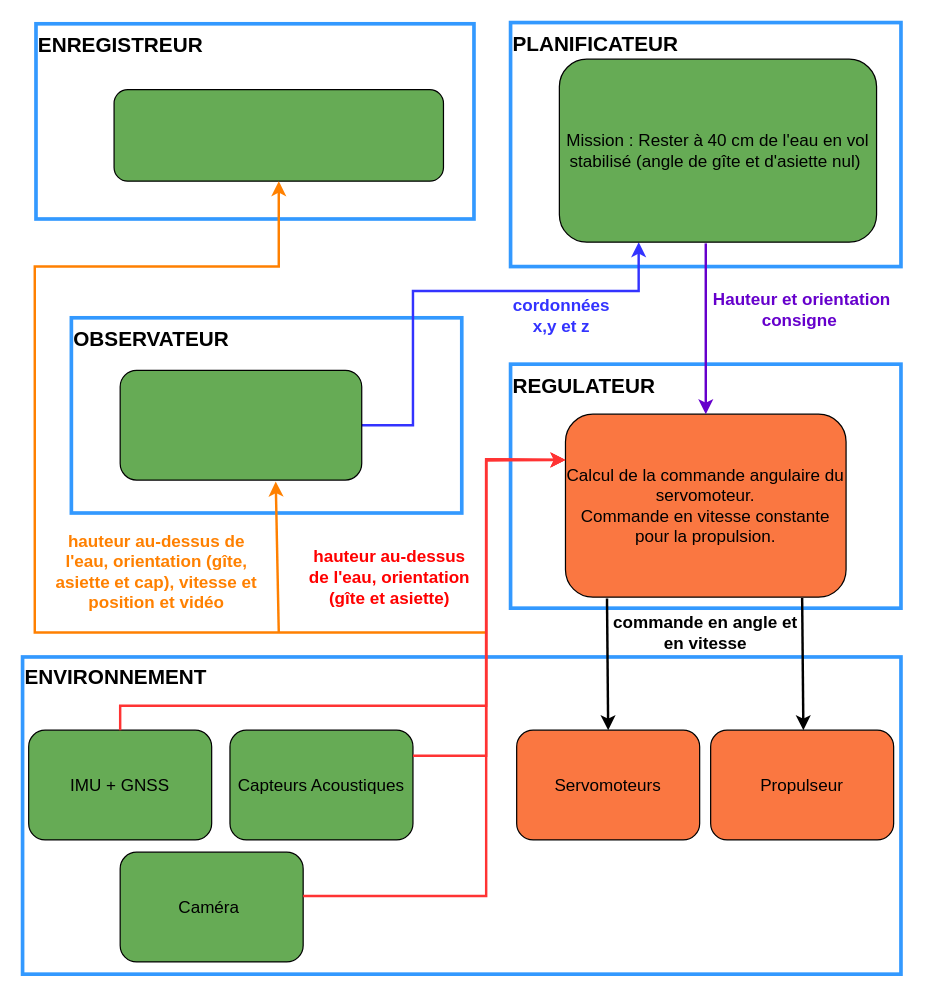
This 933x997 diagram has some shape labels left out. Each missing label, with the centre of its shape:
Conversion WGS84 -> Lambert 93: the point at 240,424
stockage des données capteurs sous forme de rosbag: the point at 278,134
